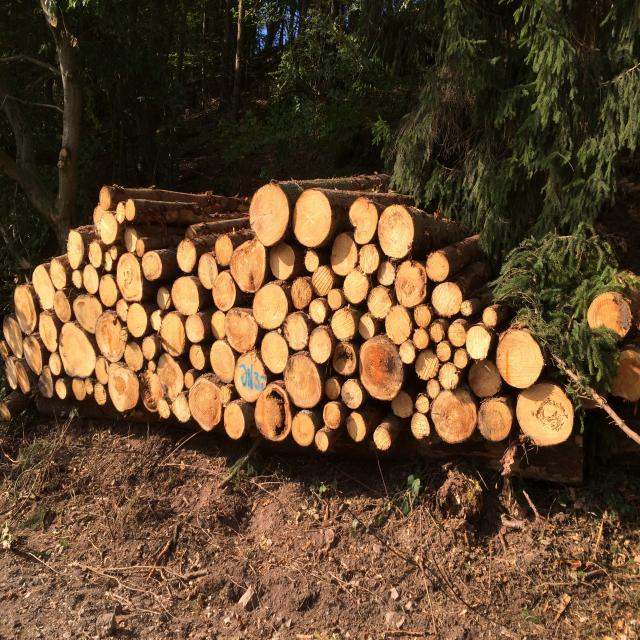wood-log: (517, 383, 574, 447), (357, 336, 402, 400), (499, 331, 546, 388), (252, 184, 294, 246), (431, 388, 477, 444), (284, 353, 324, 410), (585, 291, 631, 340), (230, 239, 270, 295), (56, 322, 95, 378), (296, 190, 334, 247), (188, 371, 223, 431), (376, 207, 414, 261), (254, 281, 291, 329), (94, 312, 127, 363), (255, 391, 288, 442), (234, 350, 267, 401), (611, 350, 640, 404), (395, 260, 427, 308), (224, 310, 258, 355), (109, 358, 139, 409), (478, 398, 512, 442), (468, 359, 503, 400), (349, 198, 378, 244), (260, 331, 290, 375), (331, 231, 360, 276), (311, 336, 347, 371), (117, 254, 143, 302), (208, 340, 236, 384), (171, 277, 201, 316), (72, 294, 103, 331), (280, 313, 310, 351), (161, 310, 186, 354), (270, 243, 298, 282), (433, 283, 464, 318), (385, 306, 414, 343), (212, 269, 238, 310), (29, 264, 52, 308), (342, 268, 370, 304), (200, 261, 227, 298), (308, 326, 334, 364), (466, 325, 493, 361), (331, 342, 358, 377), (331, 306, 358, 340), (92, 211, 118, 246), (366, 288, 394, 320), (224, 402, 247, 440), (291, 410, 315, 446), (198, 252, 220, 290), (126, 302, 149, 338), (415, 348, 440, 381), (397, 338, 417, 379), (426, 252, 450, 284), (176, 242, 198, 276), (292, 276, 314, 310), (312, 266, 336, 297), (356, 244, 379, 275), (342, 377, 364, 409), (185, 311, 206, 344), (67, 230, 84, 270), (98, 274, 119, 306), (390, 391, 413, 420), (214, 235, 234, 267), (124, 340, 144, 371), (52, 292, 71, 324), (140, 252, 160, 282), (439, 362, 462, 388), (307, 299, 329, 325), (323, 402, 342, 431), (94, 362, 107, 404), (410, 413, 430, 440), (359, 314, 379, 339), (378, 261, 397, 287), (449, 321, 467, 348), (84, 264, 100, 294), (348, 413, 364, 442), (142, 334, 157, 364), (324, 372, 340, 400), (78, 374, 95, 400), (422, 346, 442, 368), (211, 310, 226, 339), (483, 306, 501, 330), (454, 348, 472, 371), (315, 428, 332, 452), (415, 304, 432, 328), (400, 340, 416, 365), (376, 424, 392, 449), (428, 320, 445, 343), (331, 288, 348, 311), (305, 251, 321, 275), (321, 429, 339, 450), (438, 340, 454, 361), (327, 287, 342, 309), (72, 378, 87, 400), (190, 346, 203, 370), (414, 328, 430, 347), (115, 299, 128, 322), (421, 324, 434, 346), (426, 380, 441, 398), (56, 378, 68, 398), (134, 237, 147, 254)
